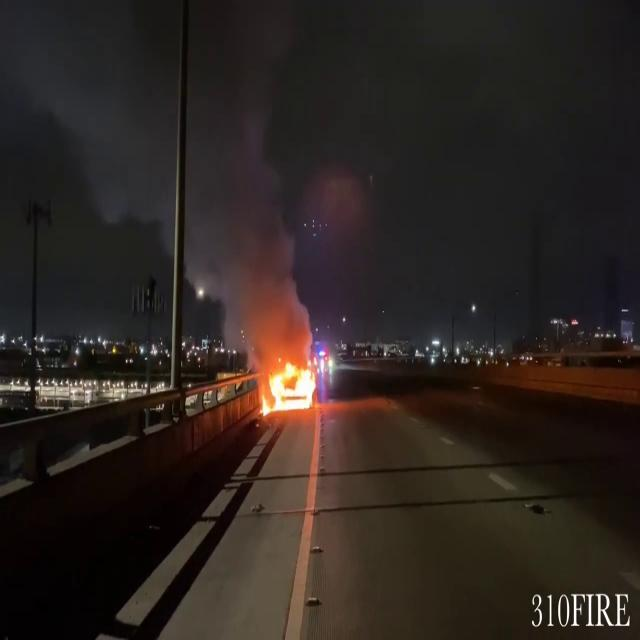Fire: (258, 354, 320, 416)
Smoke: (106, 1, 314, 347)
